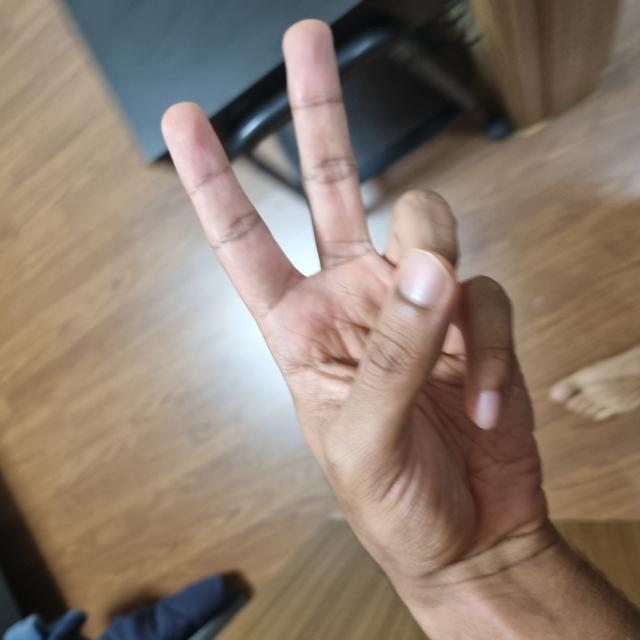Scissors: (58, 167, 615, 538)
